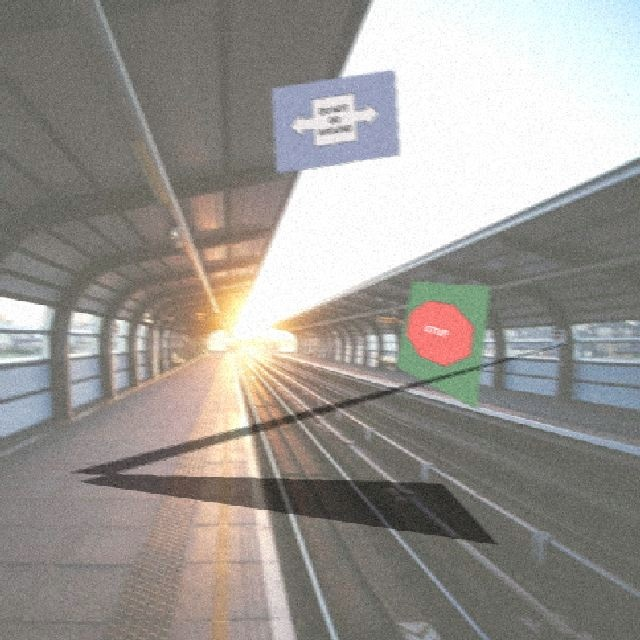DO_NOT_GO_AROUND: (288, 88, 379, 150)
STOP: (399, 294, 480, 376)
